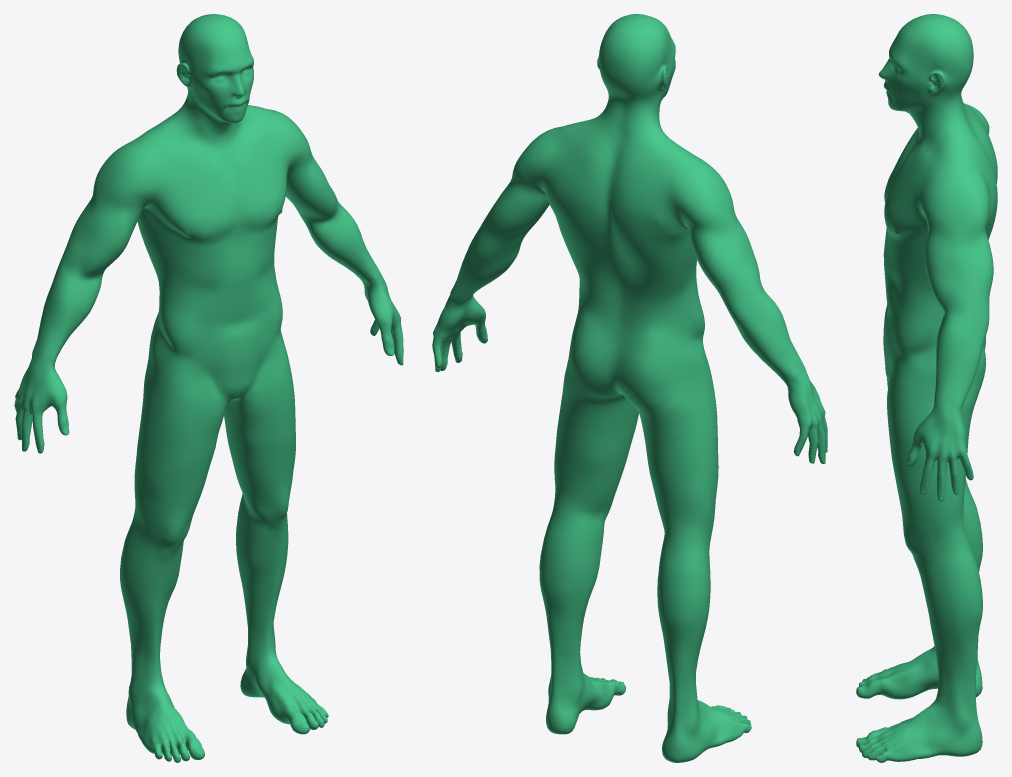
File: ae_jsx_GenMan6FT_lo.obj
The picture shows the model from 3 angles, left to right: view 1: azimuth 30°, elevation 25°; view 2: azimuth 150°, elevation 25°; view 3: azimuth 270°, elevation 25°; orthographic projection.
Visible parts, largest first — view 1: GenMan6FT_lo; view 2: GenMan6FT_lo; view 3: GenMan6FT_lo.
Part boxes in pixels (bbox=[...]): GenMan6FT_lo: bbox=[14, 14, 403, 762]; GenMan6FT_lo: bbox=[432, 14, 827, 762]; GenMan6FT_lo: bbox=[856, 14, 997, 762].
Size of the model in its own units: 11.69 by 20.74 by 3.77.
